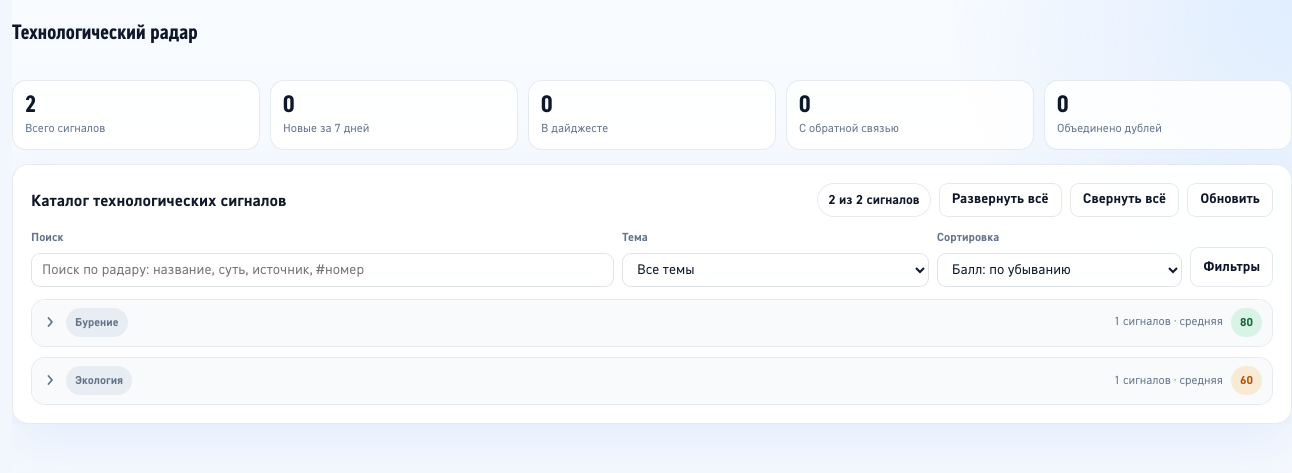
Test: SignalRadarPage › экран для коллег заказчика › блок, раскрытый поиском, всё равно сворачивается кнопкой
Expected: the button with aria-label "Раскрыть группу Бурение" is shown, [32, 300, 1272, 346]
Type "буровая" into the field labelled "Поиск".
click(322, 270); type("буровая")  # box [31, 252, 614, 286]
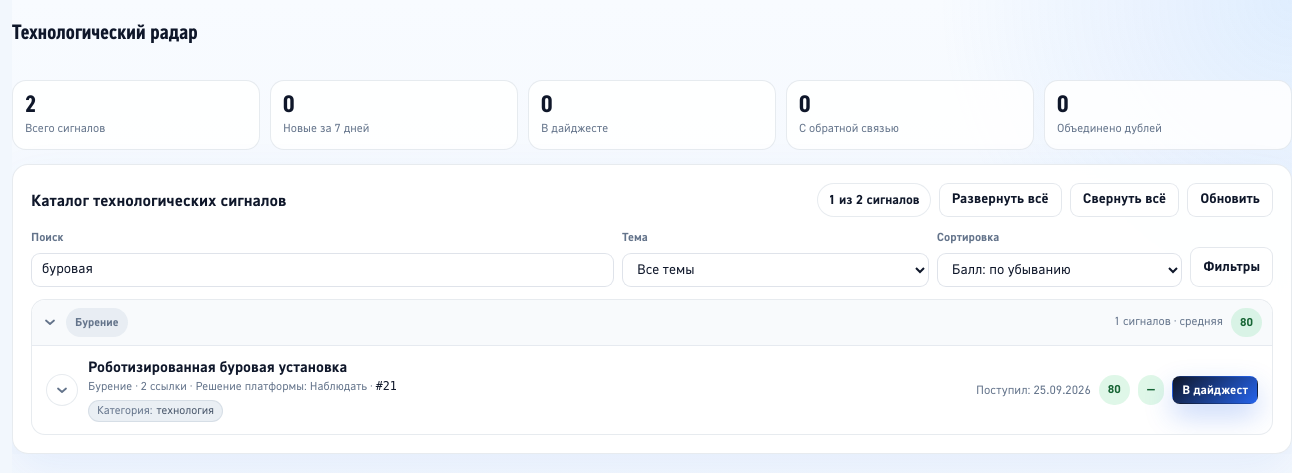
Expected: the link "Роботизированная буровая установка" is shown, [88, 358, 347, 377]
Click the button with aria-label "Свернуть группу Бурение".
click(97, 322)  # box [32, 300, 1272, 346]
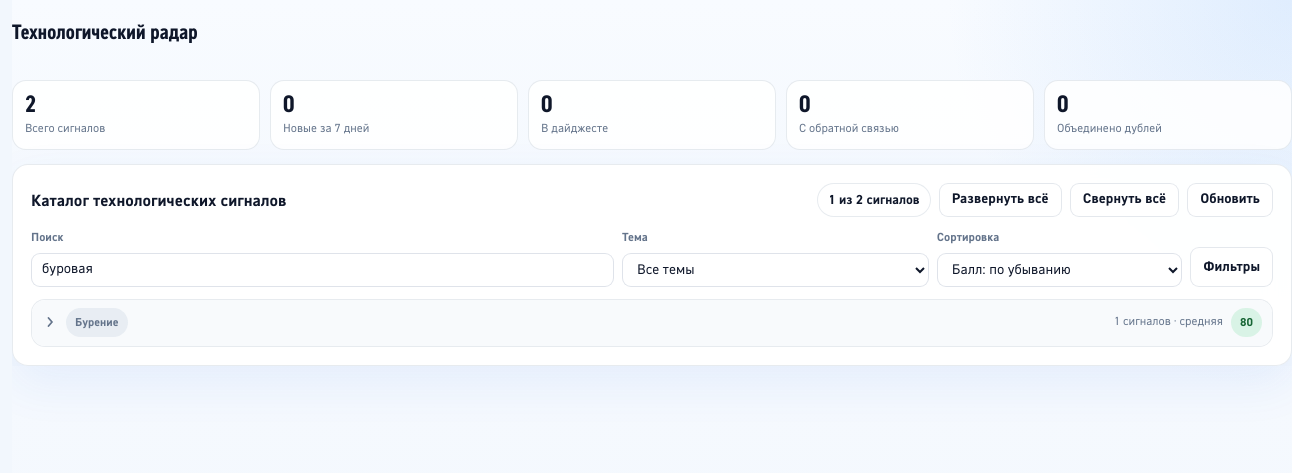
Expected: the link "Роботизированная буровая установка" is gone
